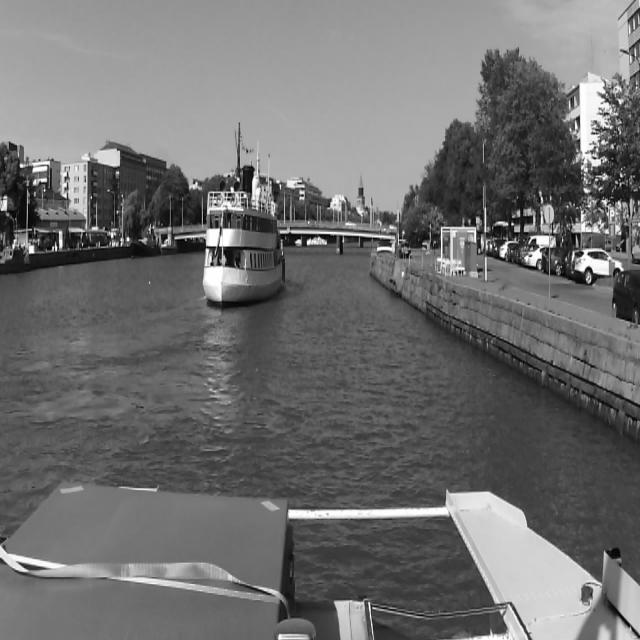ship: (196, 134, 285, 310), (0, 239, 34, 278), (128, 226, 160, 262), (160, 236, 178, 257)
